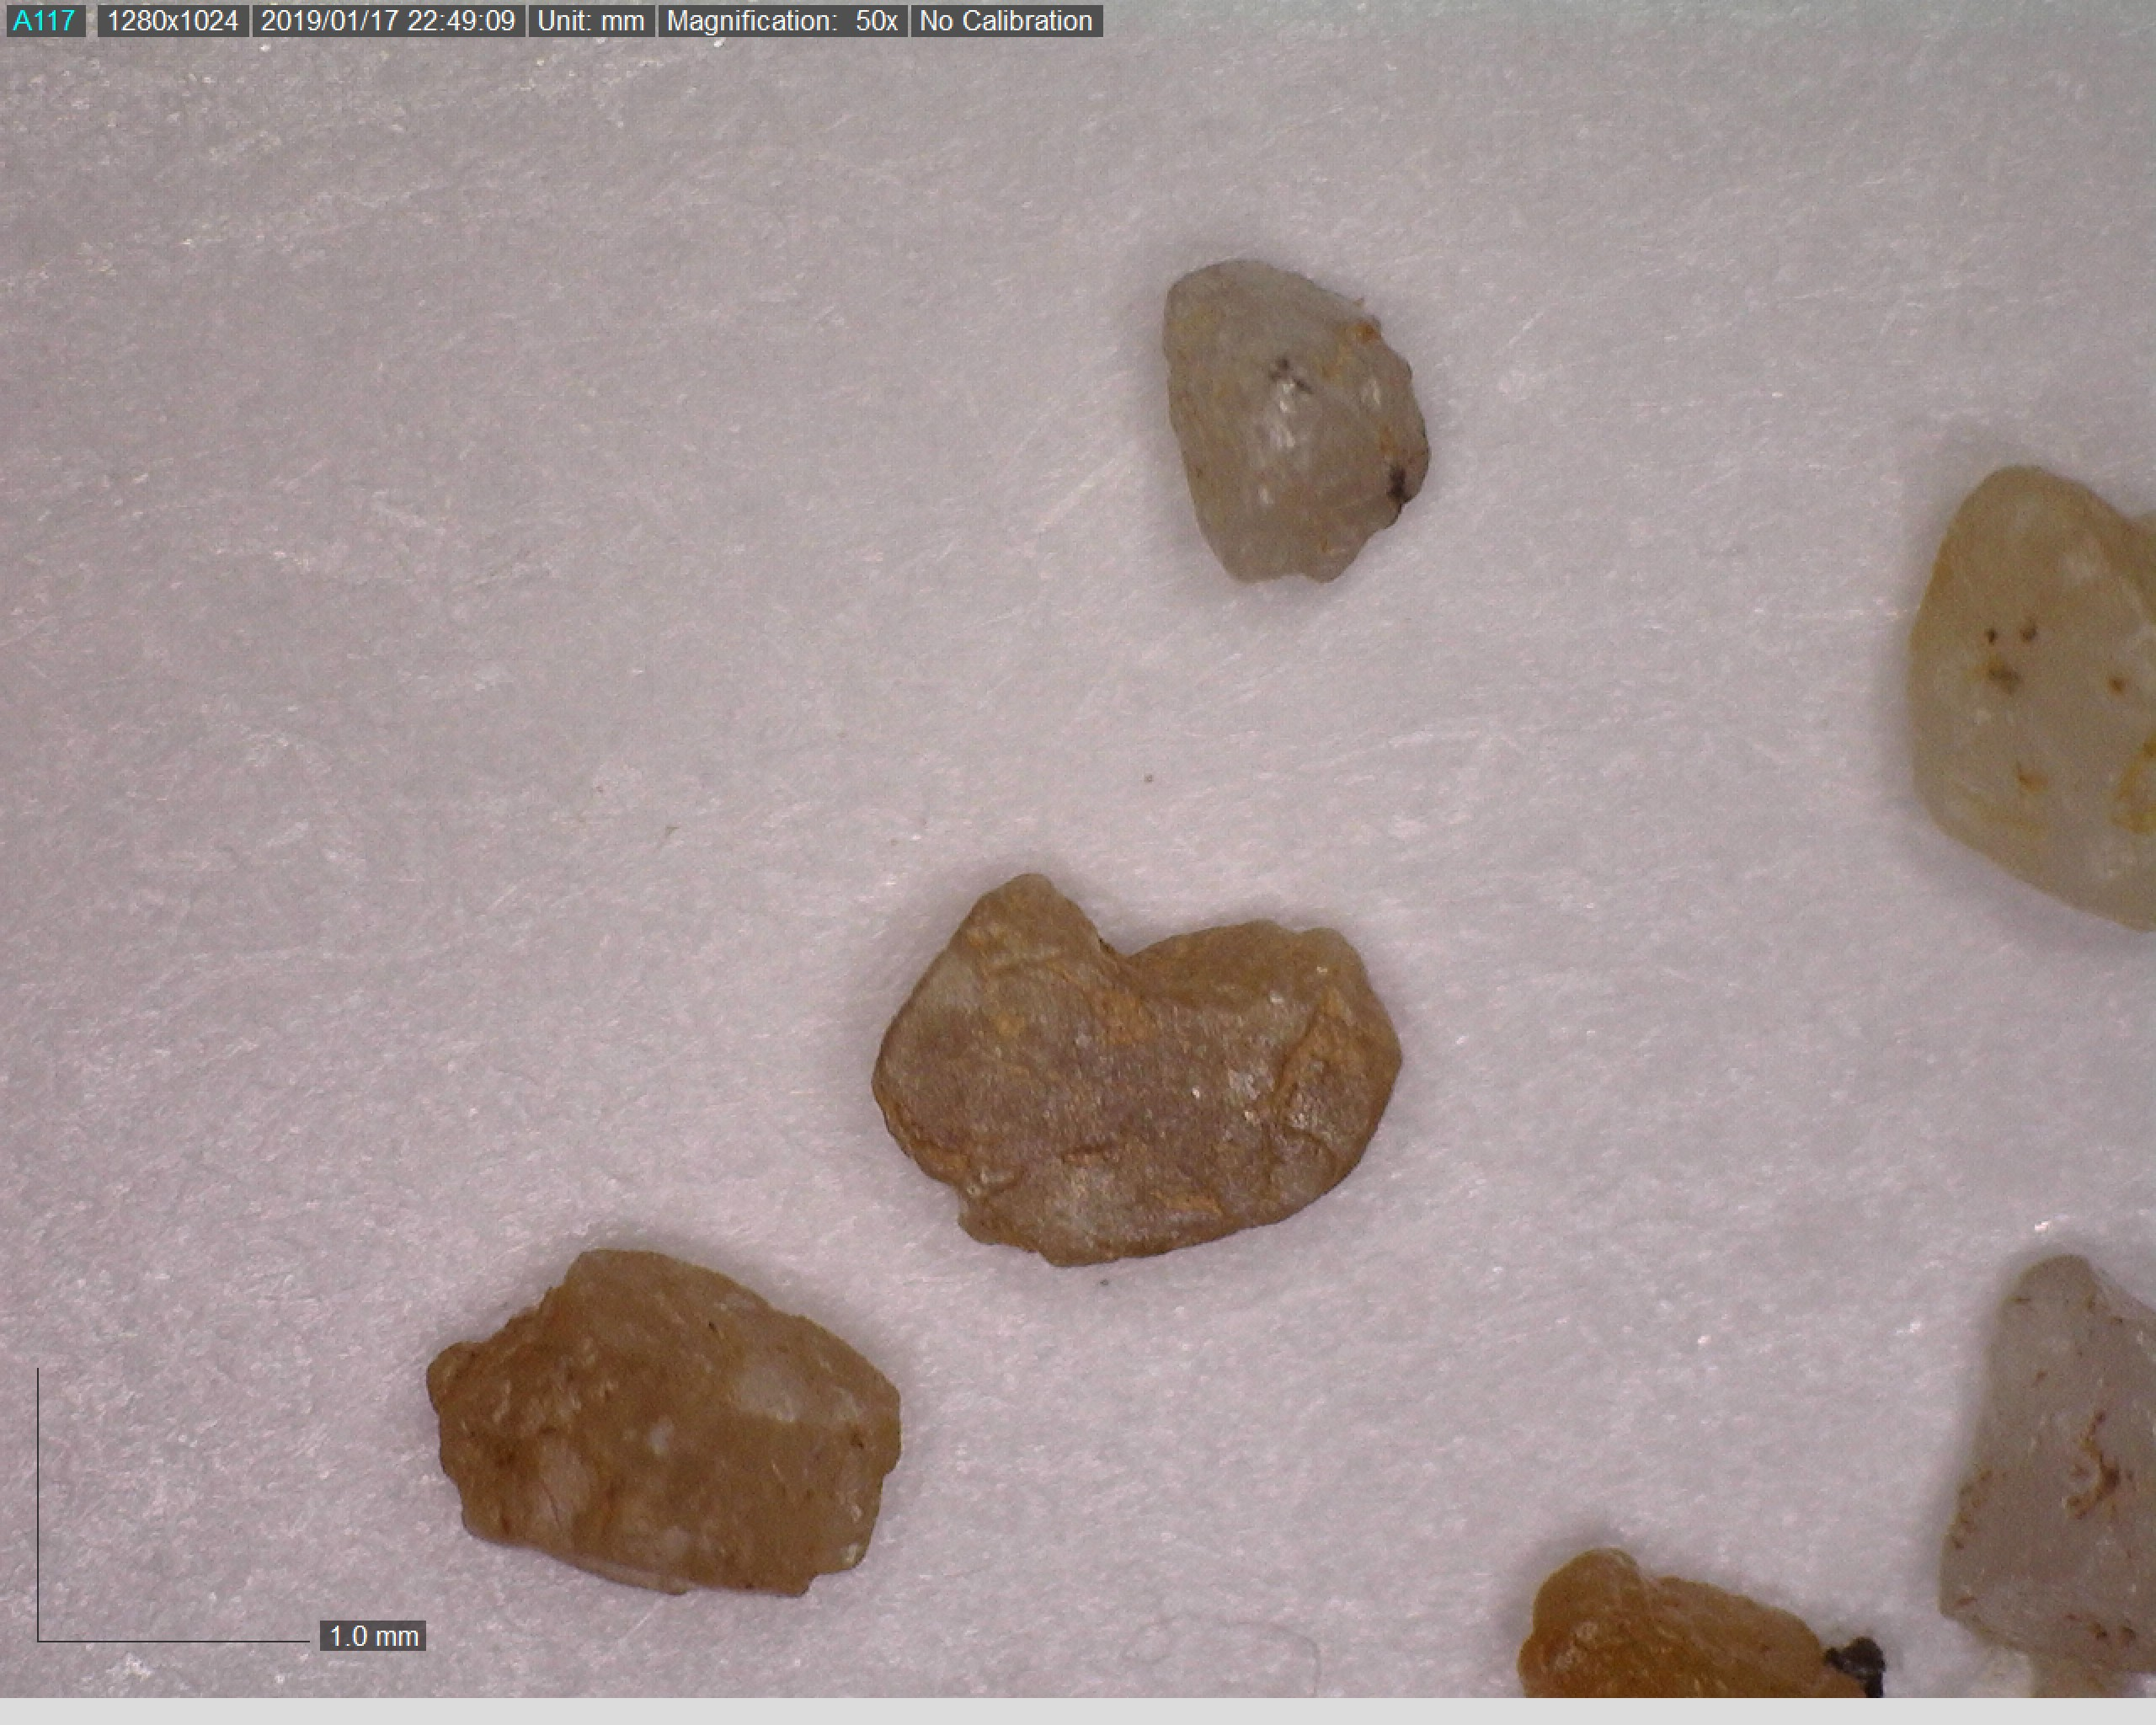Quartz: (873, 861, 1406, 1278), (405, 1237, 912, 1635), (1903, 456, 2152, 933), (1146, 241, 1447, 595), (1943, 1248, 2156, 1667)
